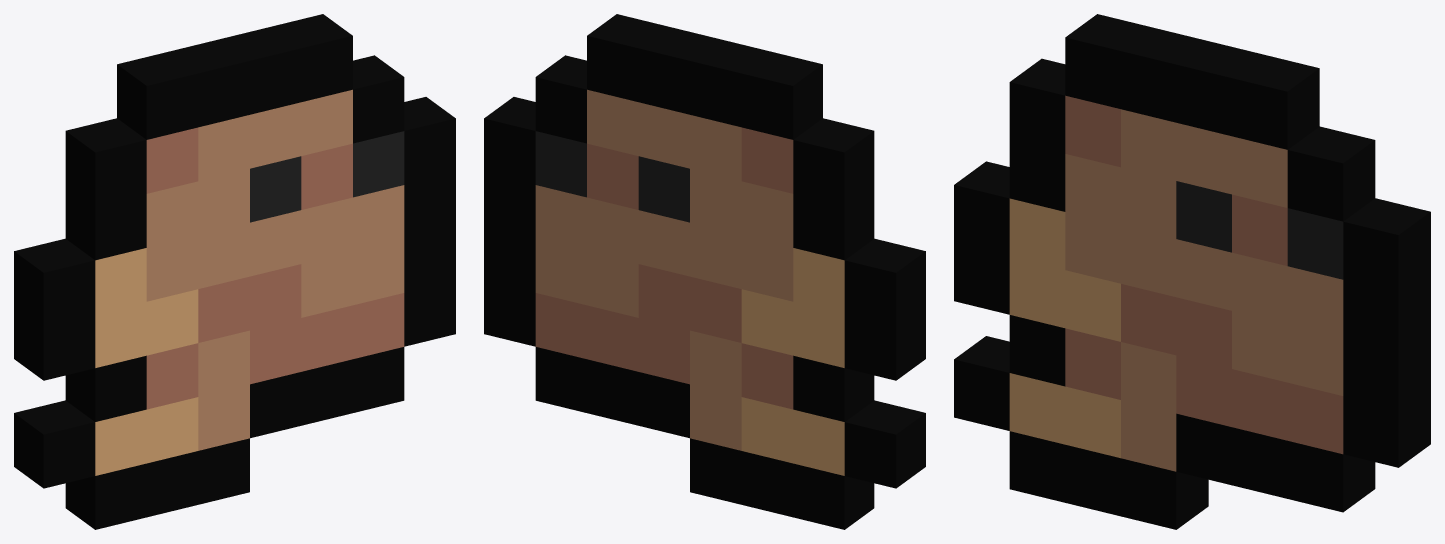
The model's file is Scorched Sunfish.glb.
The picture shows the model from 3 angles, left to right: view 1: azimuth 30°, elevation 25°; view 2: azimuth 150°, elevation 25°; view 3: azimuth 330°, elevation 25°; orthographic projection. The views are drawn at different scales.
Parts seen in each view (by area): view 1: generated(Clone); view 2: generated(Clone); view 3: generated(Clone).
Part boxes in pixels (x1,y1,x2,y2): generated(Clone): [14, 14, 455, 529]; generated(Clone): [484, 14, 925, 529]; generated(Clone): [954, 14, 1430, 529].
Size of the model in its own units: 8 by 8 by 1.
Materials: 1 (1 with a texture image).
